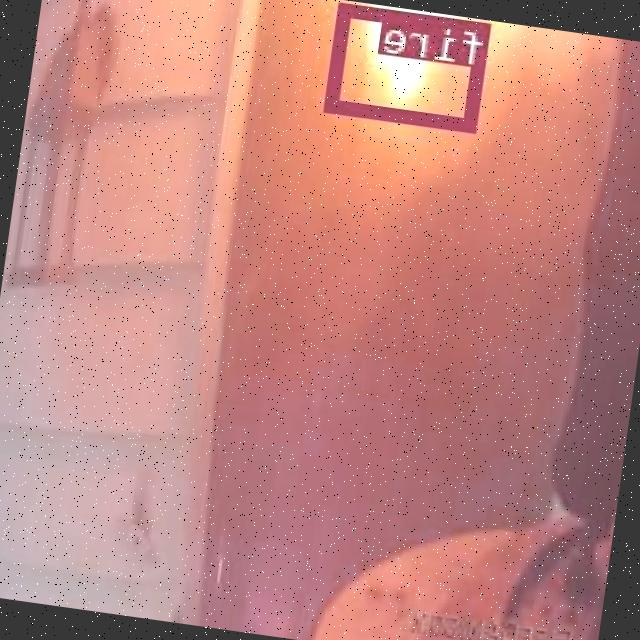fire: (327, 0, 493, 131)
